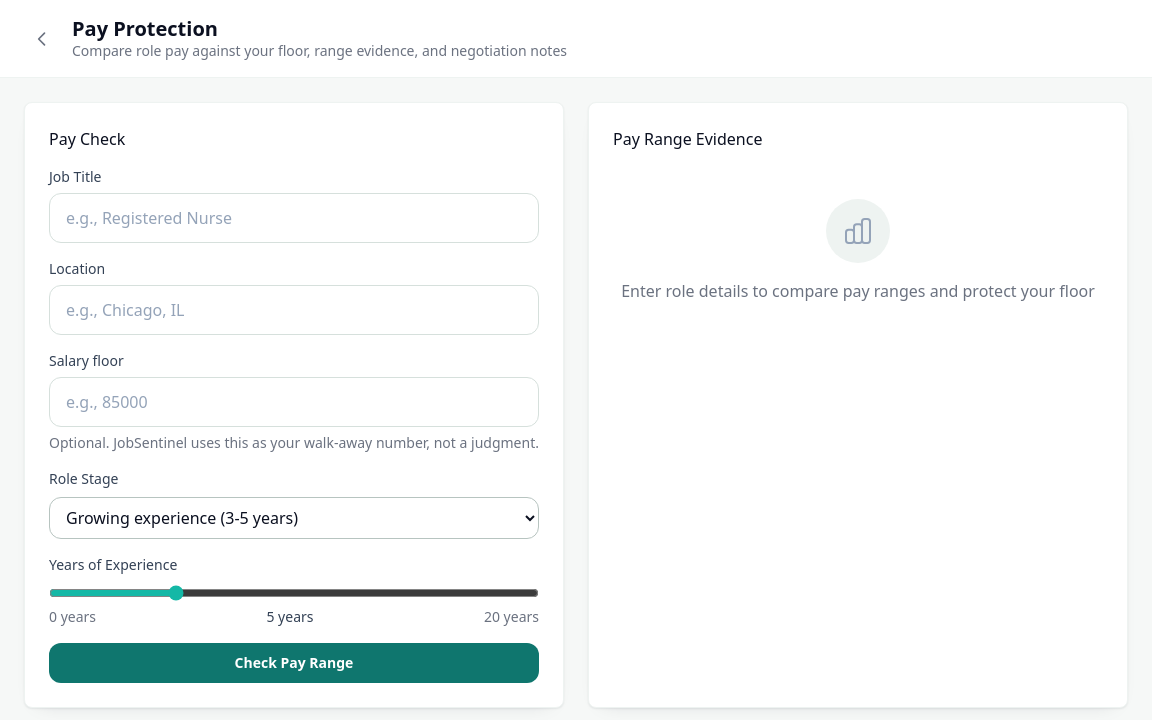
Scenario: Salary › guides users when pay details are missing
Click the button "Check Pay Range": (294, 663) [49,643,539,683]
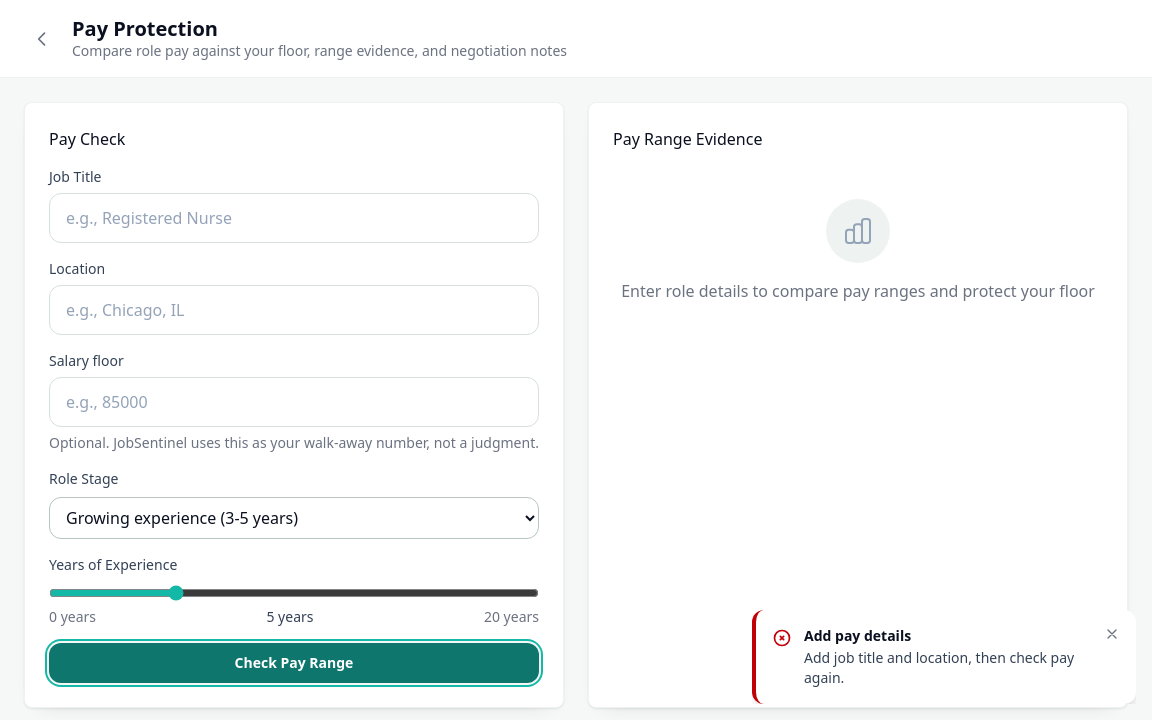
Result: the text "Add job title and location, then check pay again." is shown at [804,648,1092,688]
